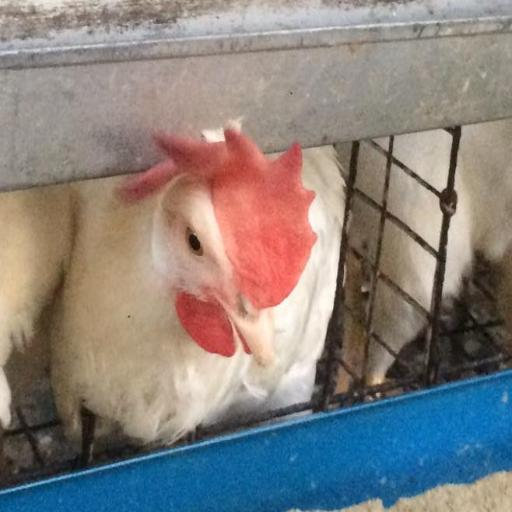healthy: (162, 157, 309, 360)
